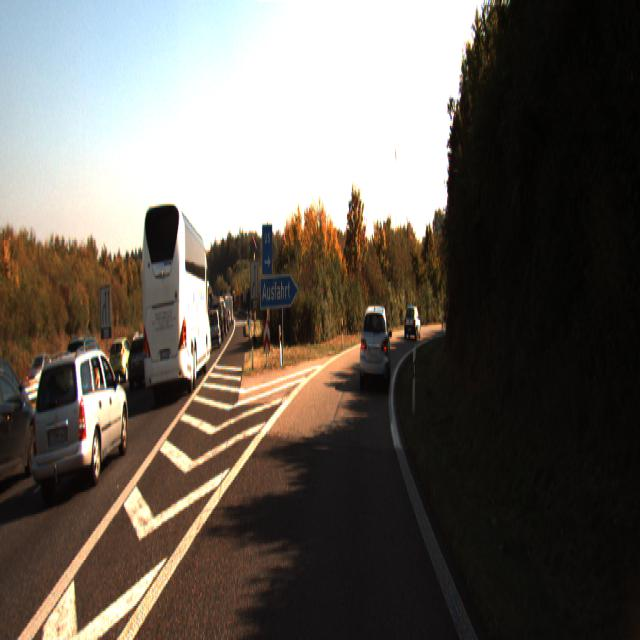Car: (34, 344, 130, 502), (140, 195, 210, 406), (0, 353, 42, 501), (360, 302, 391, 391), (110, 336, 135, 387), (404, 308, 422, 342), (436, 305, 452, 330)
